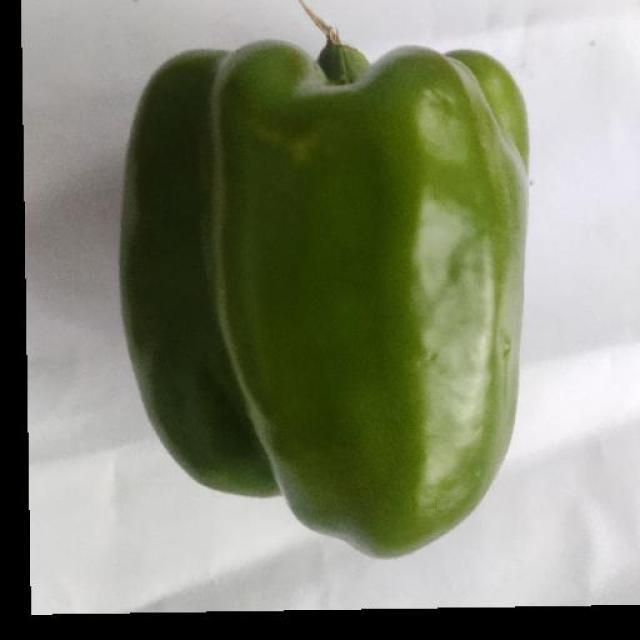Stale_Capsicum: (116, 56, 364, 512)
